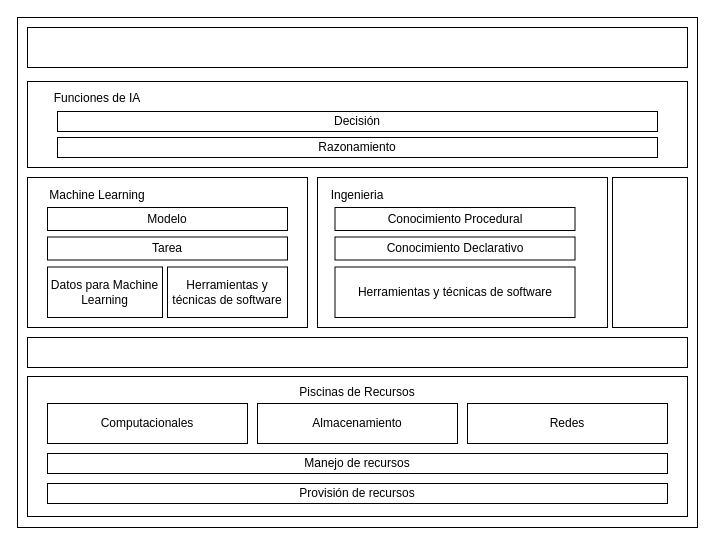
Image size: 715x545. Some labels were removed from this diagram. Here are the shapes that lost their labels. From the top down, the centre of each, then its label:
At [357,47]: "Sistemas de Inteligencia Artificiial".
At [650,252]: "Otras tecnologias: Algoritmos evolutivos, inteligencia de enjambre, etc.".
At [357,352]: "Recursos de datos y Big Data - La nube y computación en el borde".
